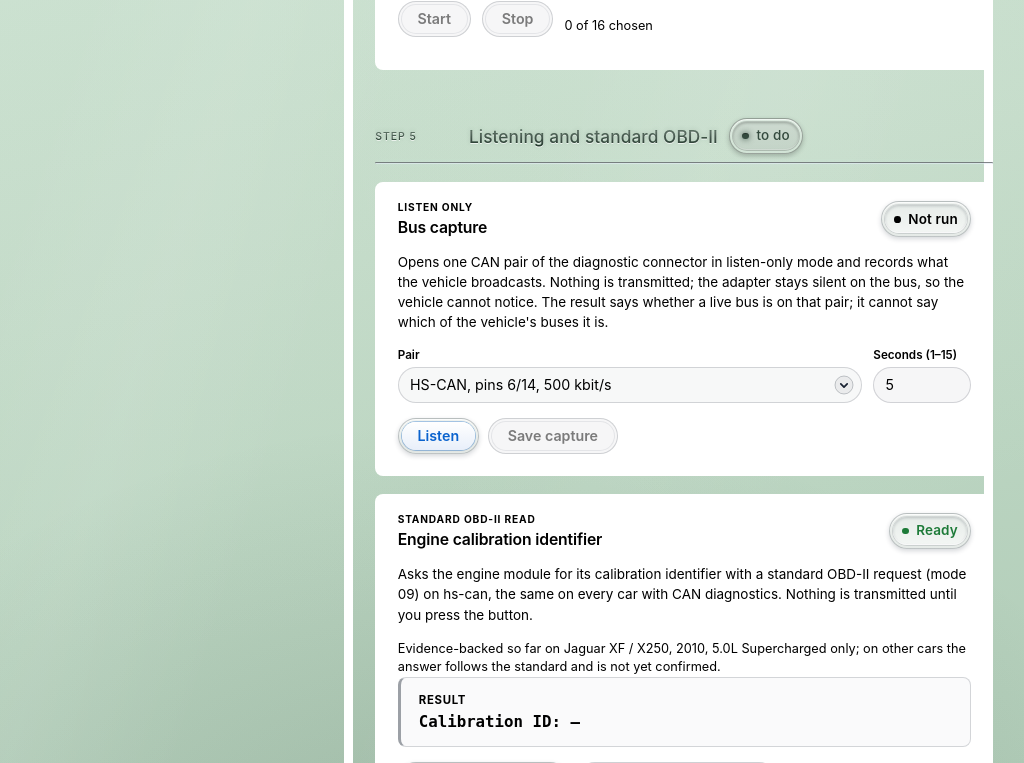
Test: listen-only bus capture › listens on the chosen pair for the chosen time and offers the capture to save
The width and height of the screenshot is (1024, 763).
(page scrolled)
Expected: the button "Listen" is enabled, [398, 418, 479, 454]
Select "MS-CAN, pins 3/11, 125 kbit/s" in the dropdown labelled "Pair" at (630, 385), box [398, 367, 862, 403]
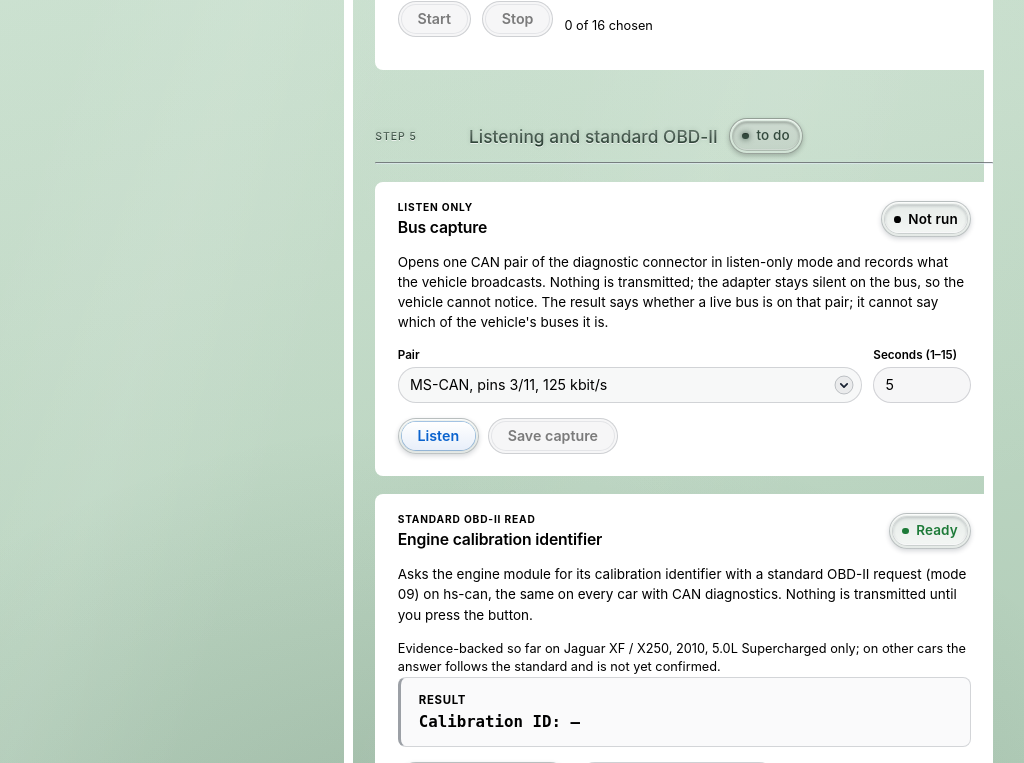
Replace the text in the number field labelled "Seconds (1–15)" with "3" at (922, 385), box [873, 367, 971, 403]
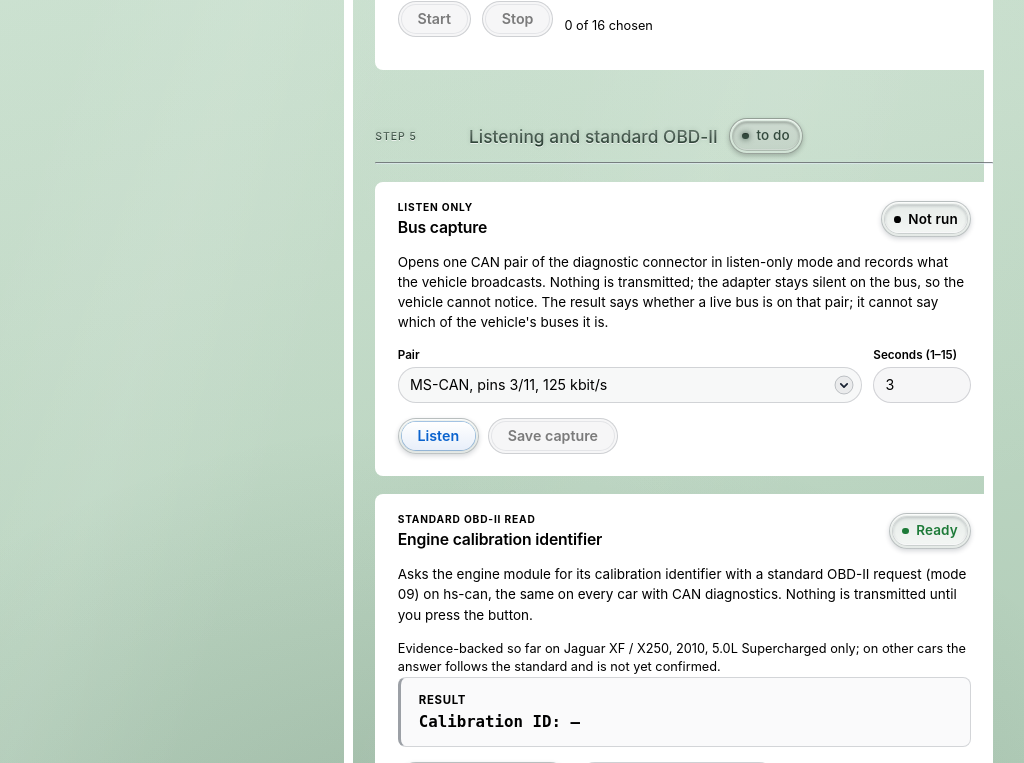
Click the button "Listen" at (438, 436), box [398, 418, 479, 454]
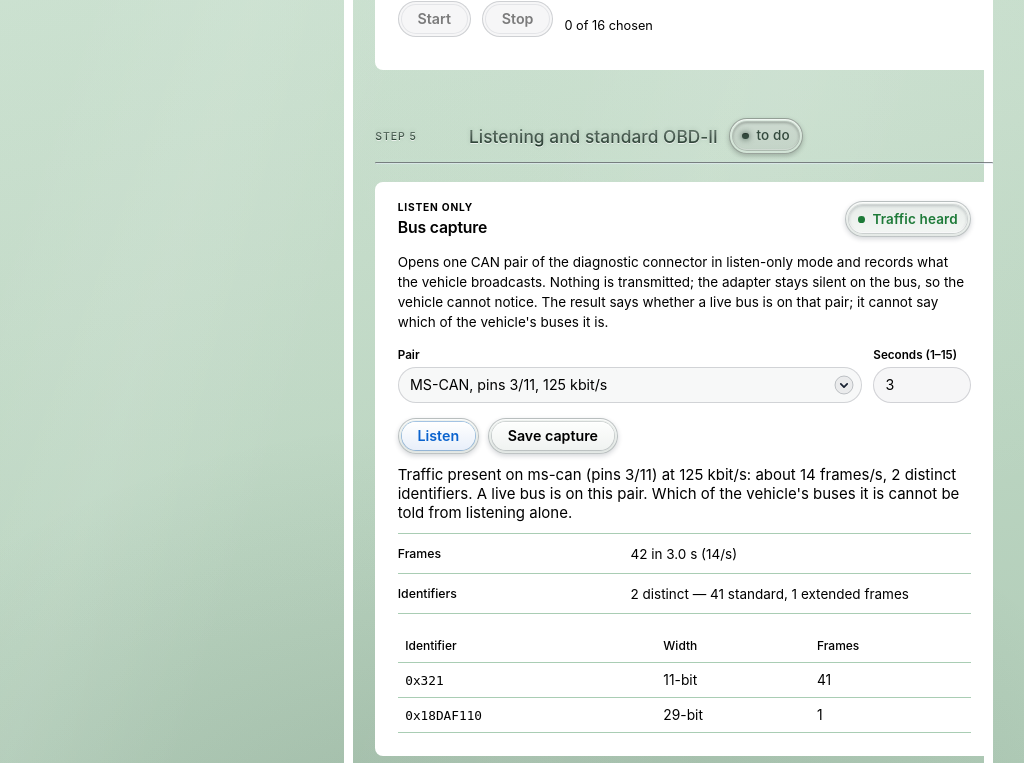
Now the text "Traffic present on ms-can (pins 3/11) at 125 kbit/s" is shown, box [398, 465, 959, 522]
Now the text "Traffic heard" is shown, box [872, 213, 958, 226]
Now the text "0x18DAF110" is shown, box [405, 708, 482, 723]
